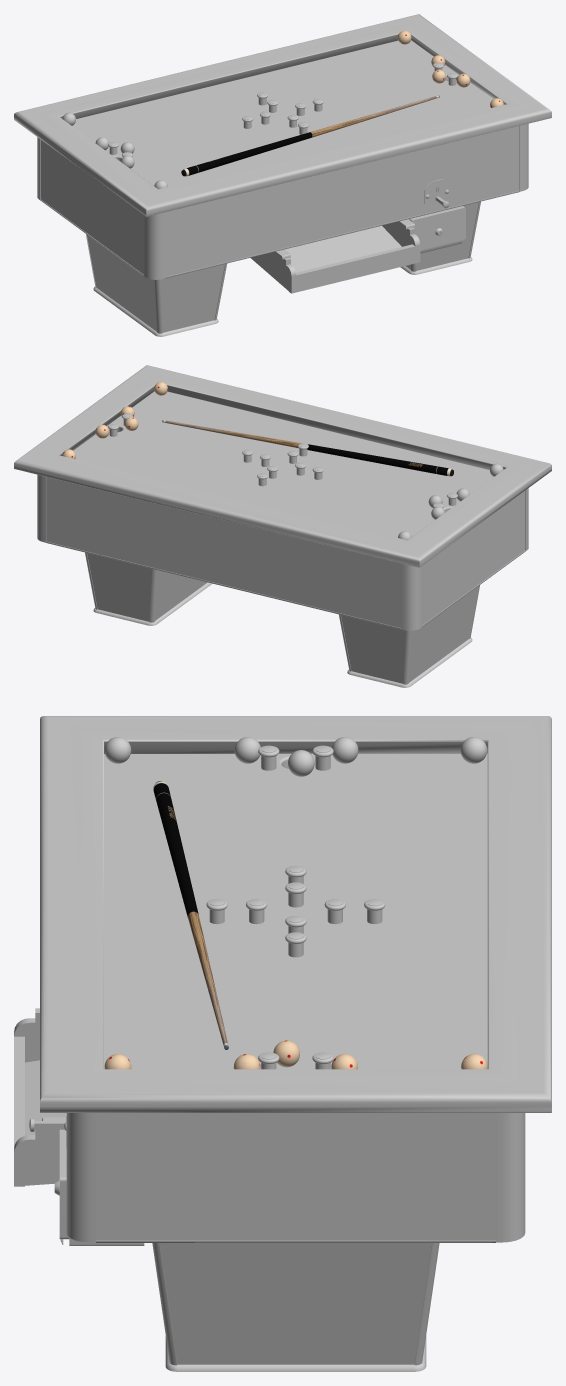
3 views of the same model, one above another, from view 1: azimuth 30°, elevation 25°; view 2: azimuth 150°, elevation 25°; view 3: azimuth 270°, elevation 25° (orthographic). The views are drawn at different scales.
Parts seen in each view (by area): view 1: Table, Espace de Jeu, Cadre&Bandes, Pieds, CaissonBoules, CaissonBoules_Child004, PorteTiroir_Monnayeur, object 29, Bouchons, BorduresMetalliques_Table, Monnayeur; view 2: Table, Espace de Jeu, Cadre&Bandes, Pieds, object 29, Bouchons, BorduresMetalliques_Table; view 3: Espace de Jeu, Cadre&Bandes, Table, Pieds, Bouchons, CaissonBoules, object 29, BorduresMetalliques_Table, CaissonBoules_Child004, PorteTiroir_Monnayeur.
Part boxes in pixels (x1=…): Table: x1=37, y1=123, x2=528, y2=279; Espace de Jeu: x1=72, y1=40, x2=492, y2=186; Cadre&Bandes: x1=14, y1=14, x2=551, y2=216; Pieds: x1=86, y1=201, x2=480, y2=336; CaissonBoules: x1=250, y1=222, x2=420, y2=293; CaissonBoules_Child004: x1=285, y1=225, x2=401, y2=272; PorteTiroir_Monnayeur: x1=409, y1=206, x2=465, y2=250; object 29: x1=181, y1=95, x2=439, y2=176; Bouchons: x1=108, y1=62, x2=457, y2=156; BorduresMetalliques_Table: x1=40, y1=190, x2=519, y2=278; Monnayeur: x1=424, y1=179, x2=449, y2=208; Table: x1=37, y1=474, x2=528, y2=630; Espace de Jeu: x1=73, y1=391, x2=493, y2=537; Cadre&Bandes: x1=14, y1=365, x2=551, y2=567; Pieds: x1=85, y1=552, x2=479, y2=687; object 29: x1=162, y1=420, x2=453, y2=476; Bouchons: x1=108, y1=413, x2=457, y2=507; BorduresMetalliques_Table: x1=46, y1=541, x2=525, y2=629; Espace de Jeu: x1=104, y1=754, x2=487, y2=1069; Cadre&Bandes: x1=40, y1=716, x2=551, y2=1112; Table: x1=66, y1=1113, x2=525, y2=1242; Pieds: x1=152, y1=1243, x2=439, y2=1371; Bouchons: x1=206, y1=745, x2=385, y2=1069; CaissonBoules: x1=14, y1=1008, x2=59, y2=1186; object 29: x1=153, y1=781, x2=228, y2=1049; BorduresMetalliques_Table: x1=96, y1=1240, x2=495, y2=1242; CaissonBoules_Child004: x1=25, y1=1060, x2=66, y2=1135; PorteTiroir_Monnayeur: x1=59, y1=1129, x2=69, y2=1239.
Size of the model in its own units: 2.07 by 0.8219 by 1.23.
